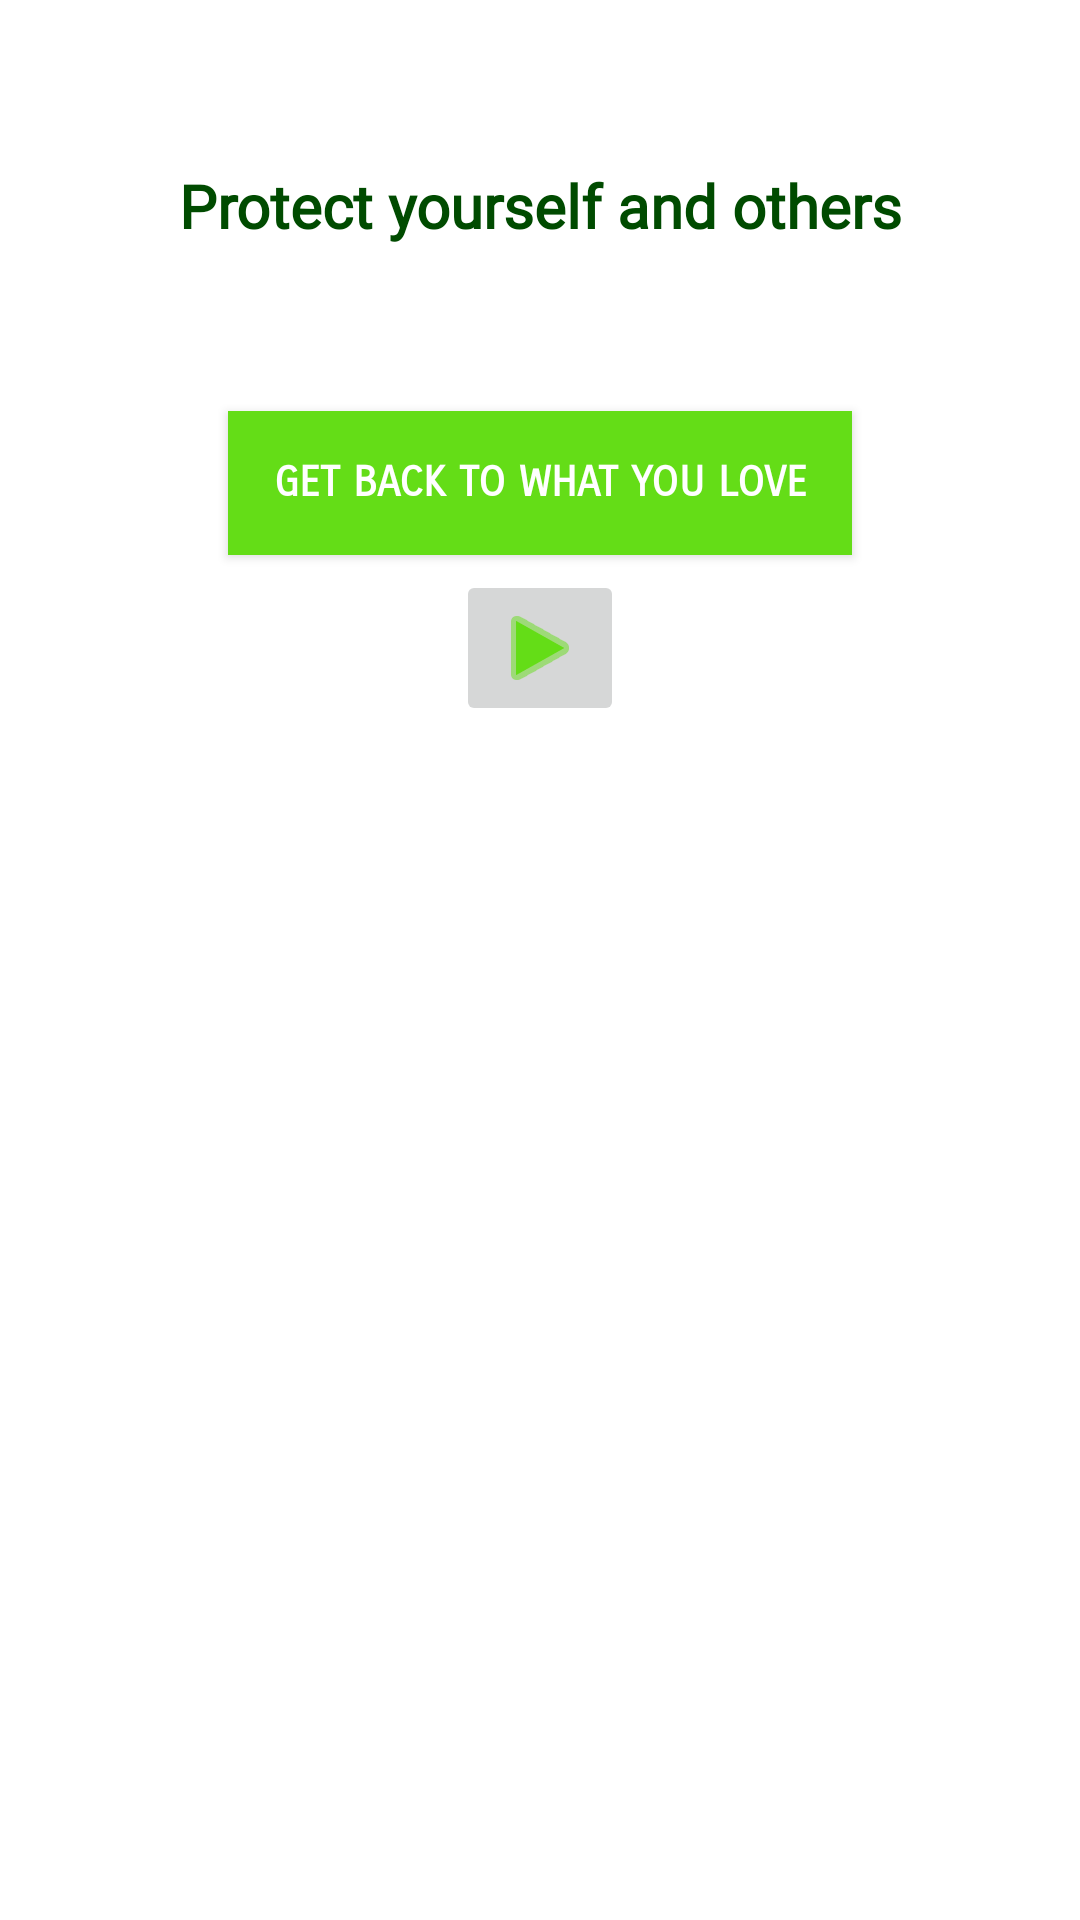

Named icons in this screenshot (1080w x 1920h) and their centers, point (x, y):
play: point (540, 648)
